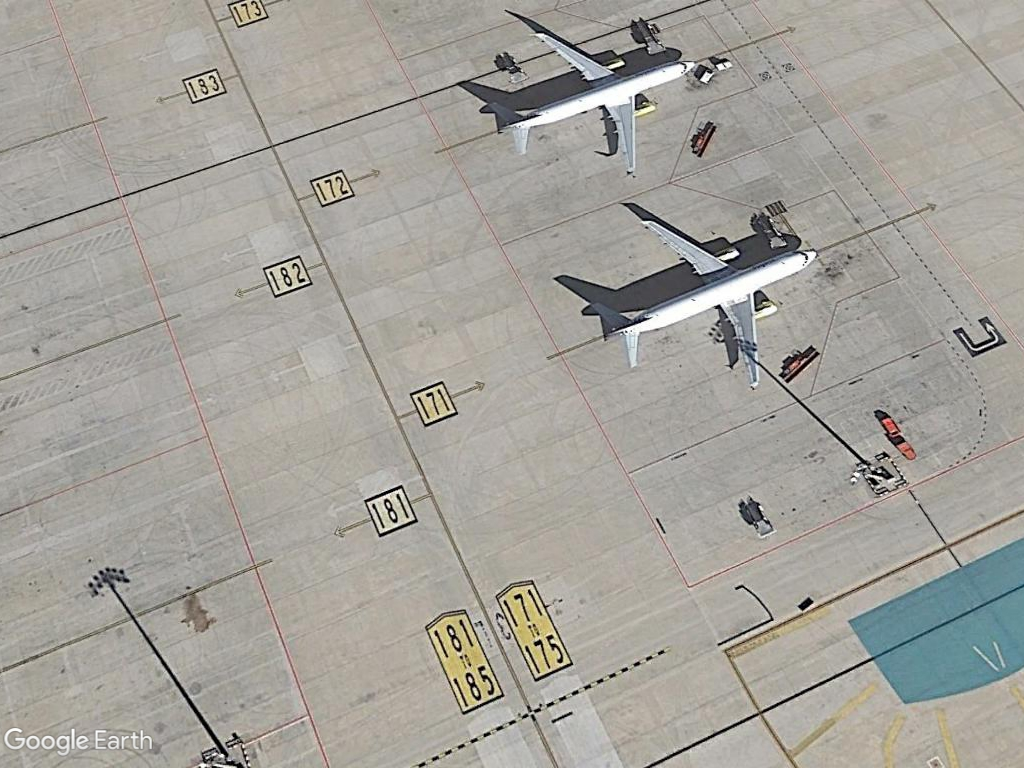airliner: (585, 215, 824, 395), (483, 27, 704, 182)
stairtruck: (734, 495, 777, 541)
